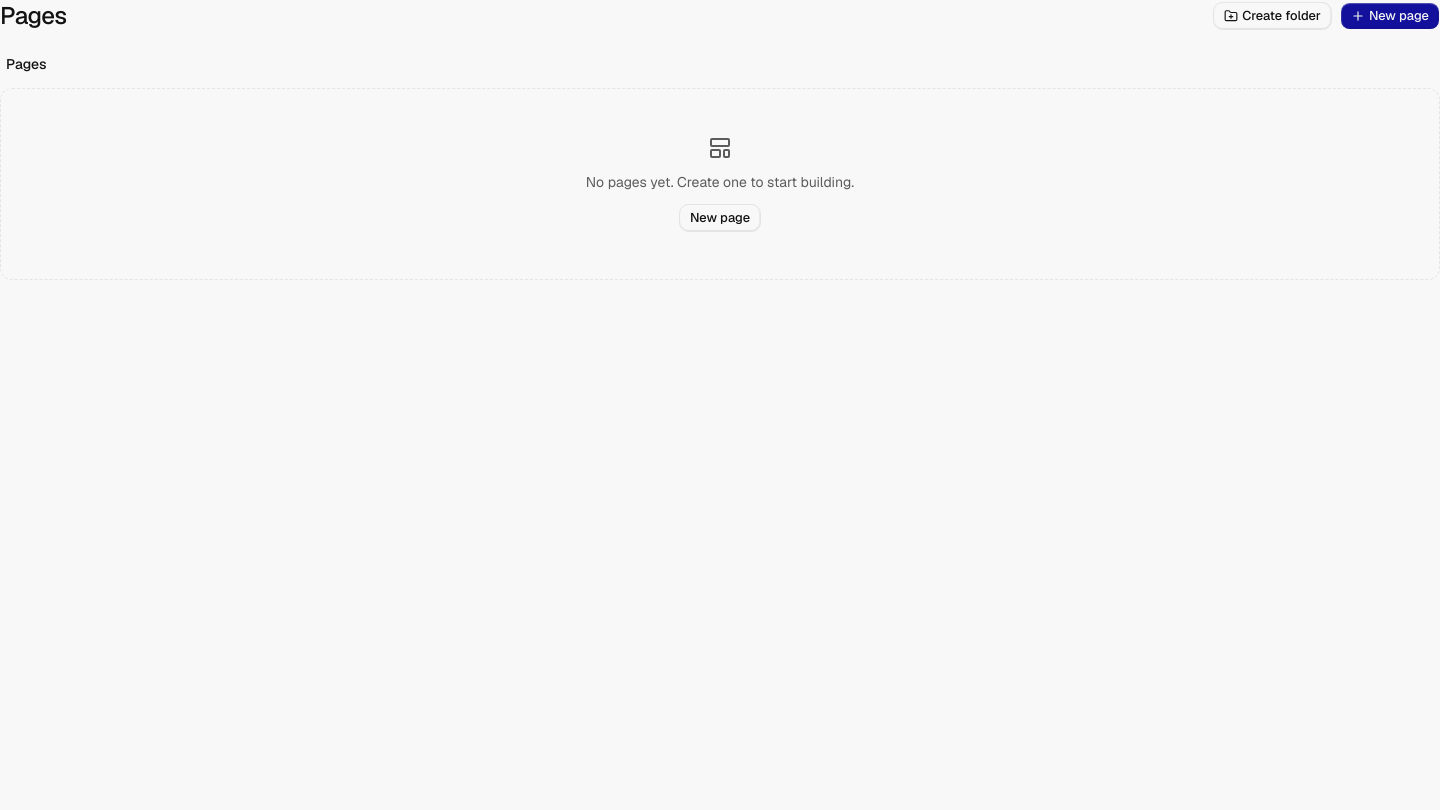
landing pages overview › shows an empty state that opens the new page dialog
Click the 2nd button "New page": x=720, y=218 left=679, top=204, right=761, bottom=232
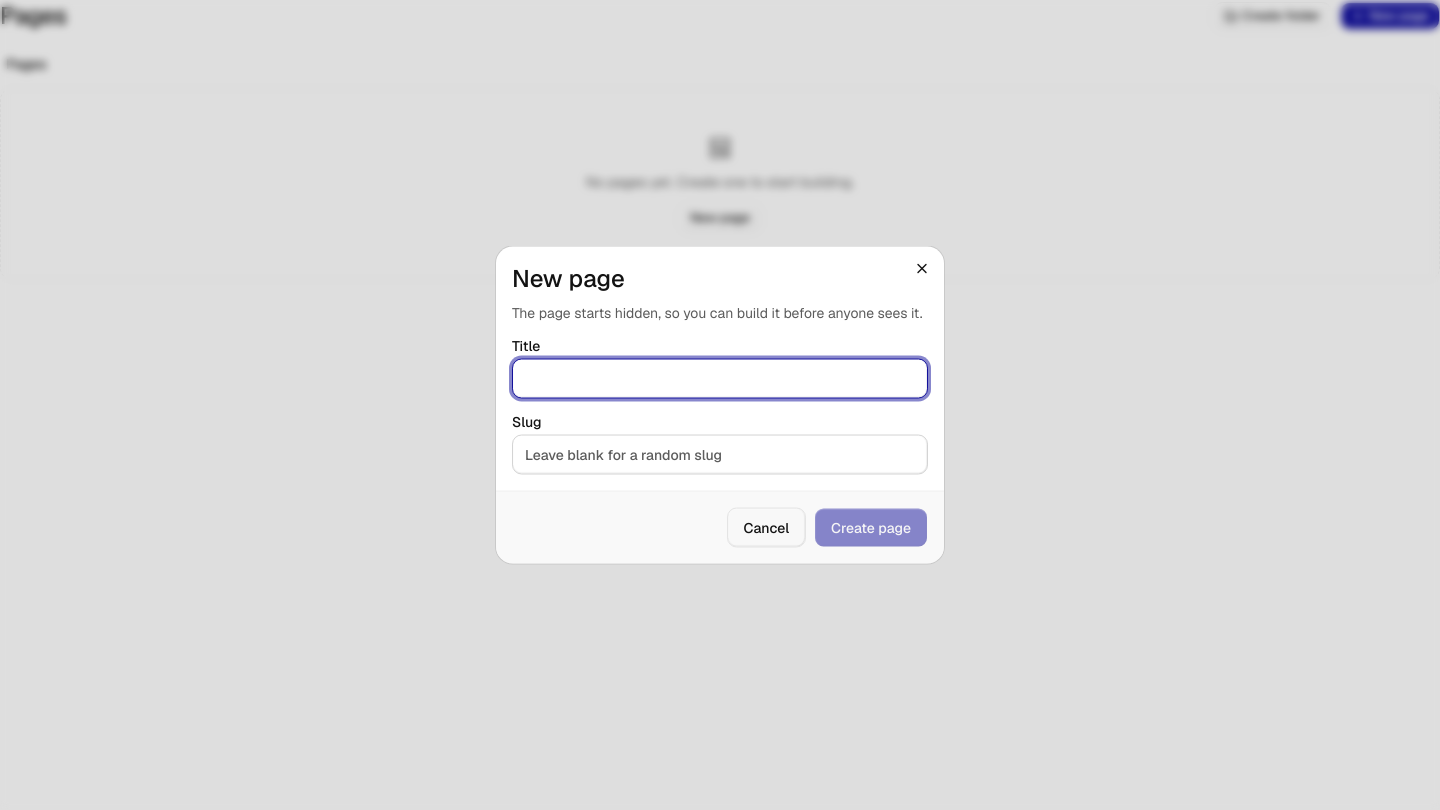
expect the text "The page starts hidden, so you can build it before anyone sees it." is shown: met, box left=512, top=302, right=928, bottom=322
